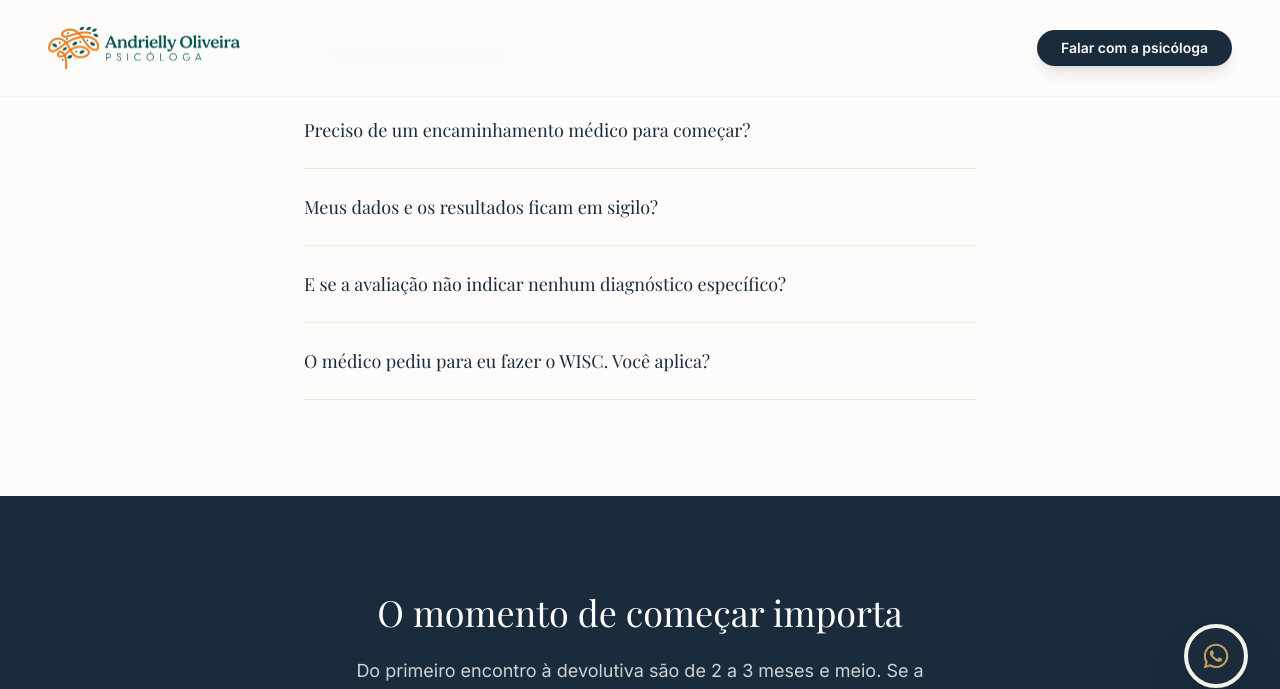
Página de avaliação — T04: instrumentos só aparecem no FAQ › abrindo a pergunta do WISC, a resposta correspondente aparece
(page scrolled)
Step 1. Click the button "O médico pediu para eu fazer o WISC. Você aplica?" → coordinates (640, 360), box [304,322,976,398]
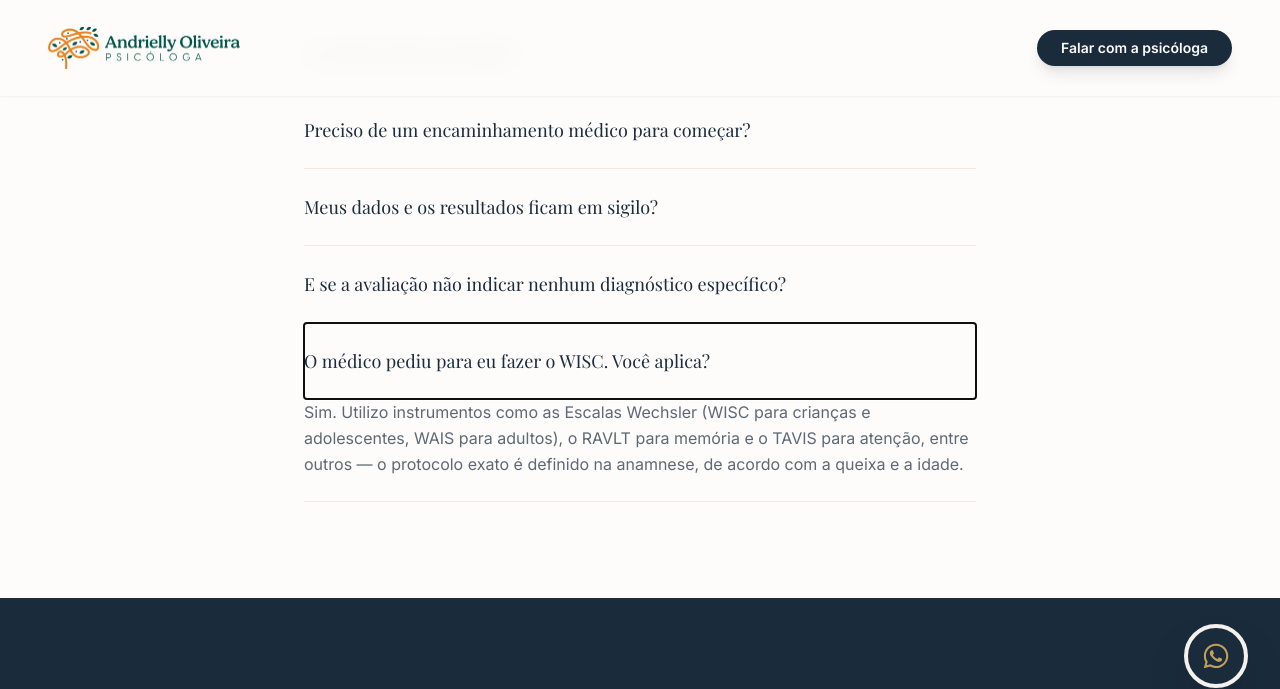
Expected: the text "Sim. Utilizo instrumentos como as Escalas Wechsler (WISC para crianças e adolescentes, WAIS para adultos), o RAVLT para " is shown, [304,402,969,474]
